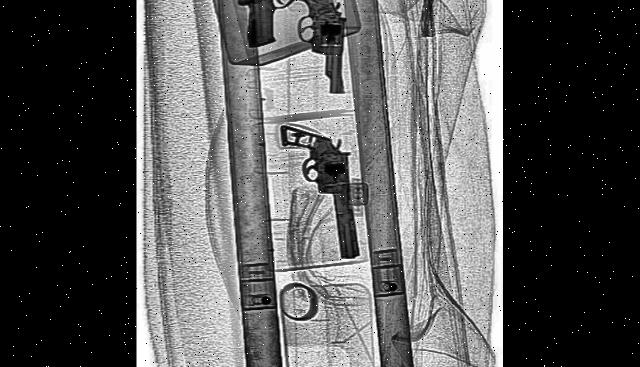Gun: (278, 98, 358, 279), (276, 0, 347, 94), (233, 0, 324, 52)
